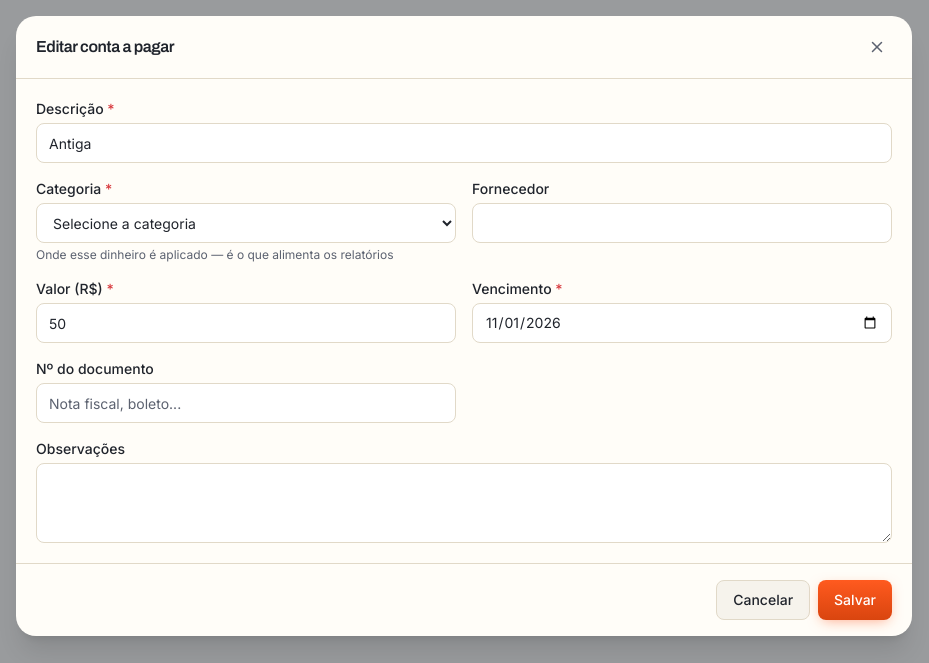
Test case: ContaFormModal › forces an old, unclassified account to be given a category before saving
The width and height of the screenshot is (929, 663).
Step 1. Click the button "Salvar" → coordinates (855, 600), box 818,580 -> 892,620
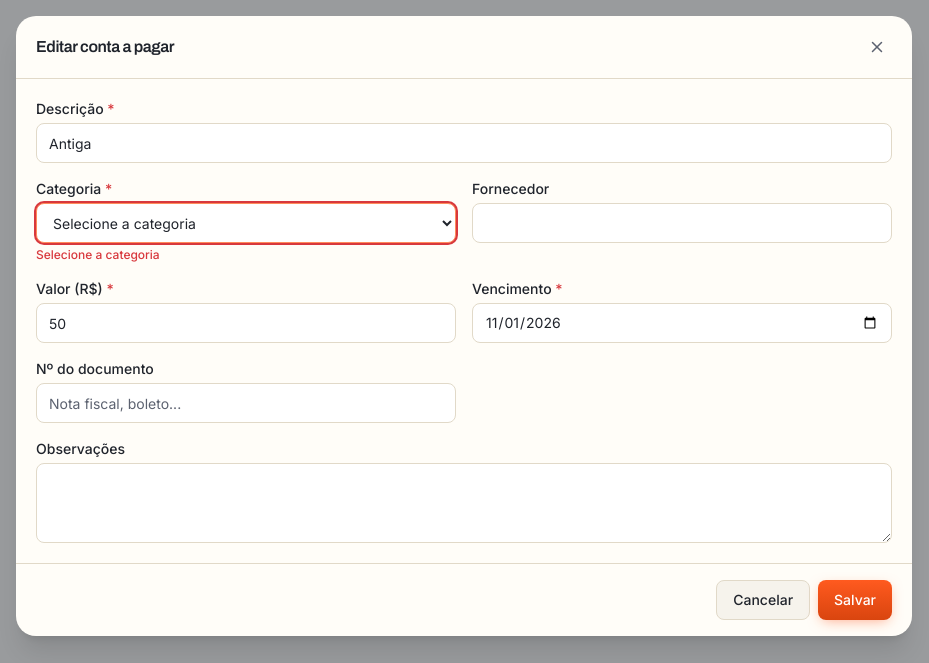
expect the text "Selecione a categoria" is shown: met, box 36,247 -> 160,262
